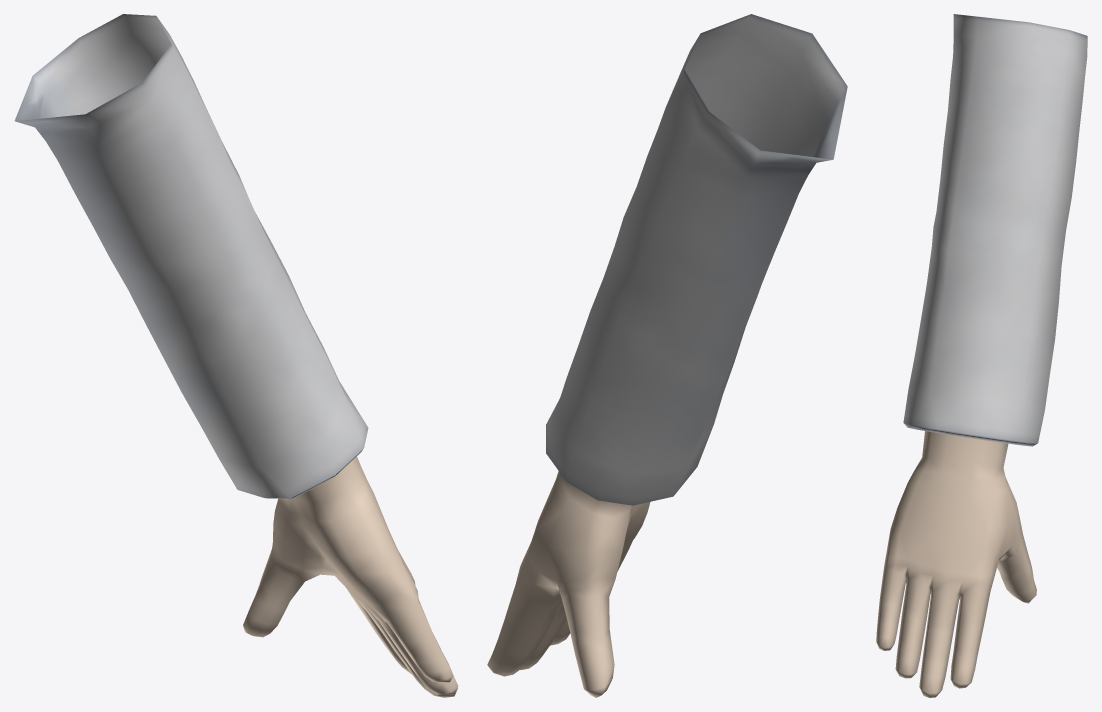
The model's file is bDer2Oak.obj.
3 views of the same model, side by side, from view 1: azimuth 30°, elevation 25°; view 2: azimuth 150°, elevation 25°; view 3: azimuth 270°, elevation 25° (orthographic). The views are drawn at different scales.
Parts seen in each view (by area): view 1: RForeArm, RArm, RArmEX, RHand, tr0004_00_topsSkin.001_body, RForeArmEX, RFingerE1, RFingerA2, RFingerA1, RFingerA3, RShoulder, RFingerE2; view 2: RForeArm, RArmEX, RArm, RHand, tr0004_00_topsSkin.001_body, RFingerA1, RFingerA2, RFingerA3, RFingerB1, RFingerB2, RShoulder, RFingerB3; view 3: RForeArm, RArm, RHand, RArmEX, RForeArmEX, tr0004_00_topsSkin.001_body, RFingerC1, RFingerB1, RFingerC3, RFingerD1, RFingerA3, RFingerC2 (+9 smaller).
Part boxes in pixels (x1,y1,x2,y2): RForeArm: [128, 214, 368, 498]; RArm: [75, 116, 280, 326]; RArmEX: [35, 33, 218, 195]; RHand: [275, 492, 417, 622]; tr0004_00_topsSkin.001_body: [14, 14, 181, 127]; RForeArmEX: [294, 456, 373, 520]; RFingerE1: [371, 591, 430, 654]; RFingerA2: [260, 543, 319, 608]; RFingerA1: [273, 511, 323, 574]; RFingerA3: [243, 576, 289, 637]; RShoulder: [85, 14, 151, 126]; RFingerE2: [404, 627, 440, 672]; RForeArm: [546, 278, 757, 505]; RArmEX: [647, 33, 837, 223]; RArm: [603, 103, 792, 345]; RHand: [518, 471, 650, 610]; tr0004_00_topsSkin.001_body: [676, 14, 847, 162]; RFingerA1: [547, 527, 622, 582]; RFingerA2: [556, 577, 615, 636]; RFingerA3: [570, 626, 614, 697]; RFingerB1: [506, 569, 562, 643]; RFingerB2: [498, 613, 551, 665]; RShoulder: [675, 53, 847, 128]; RFingerB3: [487, 640, 525, 676]; RForeArm: [903, 222, 1065, 446]; RArm: [932, 110, 1079, 262]; RHand: [886, 469, 1015, 594]; RArmEX: [948, 35, 1087, 127]; RForeArmEX: [914, 432, 1008, 487]; tr0004_00_topsSkin.001_body: [953, 14, 1087, 55]; RFingerC1: [927, 575, 961, 632]; RFingerB1: [957, 580, 990, 624]; RFingerC3: [919, 654, 948, 697]; RFingerD1: [902, 566, 933, 615]; RFingerA3: [999, 555, 1036, 603]; RFingerC2: [922, 623, 953, 661].
Bounding box in the file's own units: 3.28 × 5.83 × 1.93.
